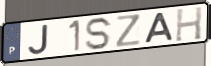1: (68, 19, 81, 53)
A: (142, 12, 175, 45)
H: (174, 5, 204, 43)
J: (27, 23, 50, 56)
S: (84, 16, 114, 52)
Z: (115, 12, 143, 48)
